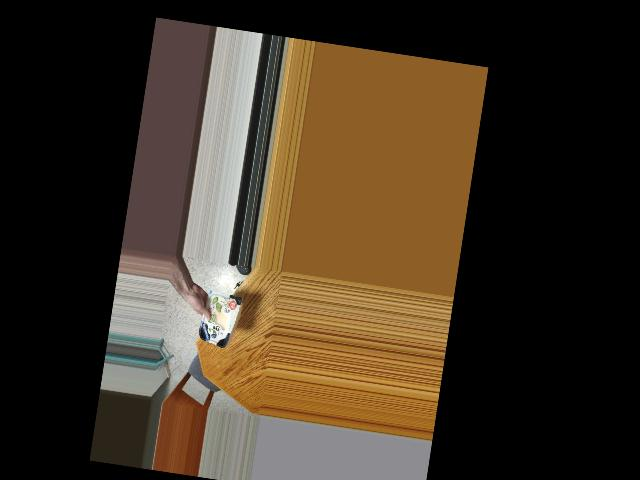cheese: (187, 285, 246, 349)
